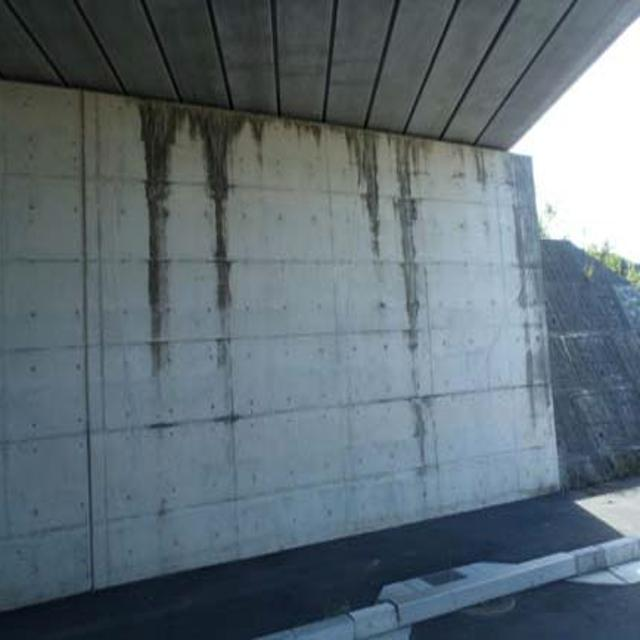leakage: (353, 127, 446, 472), (130, 80, 237, 371)
